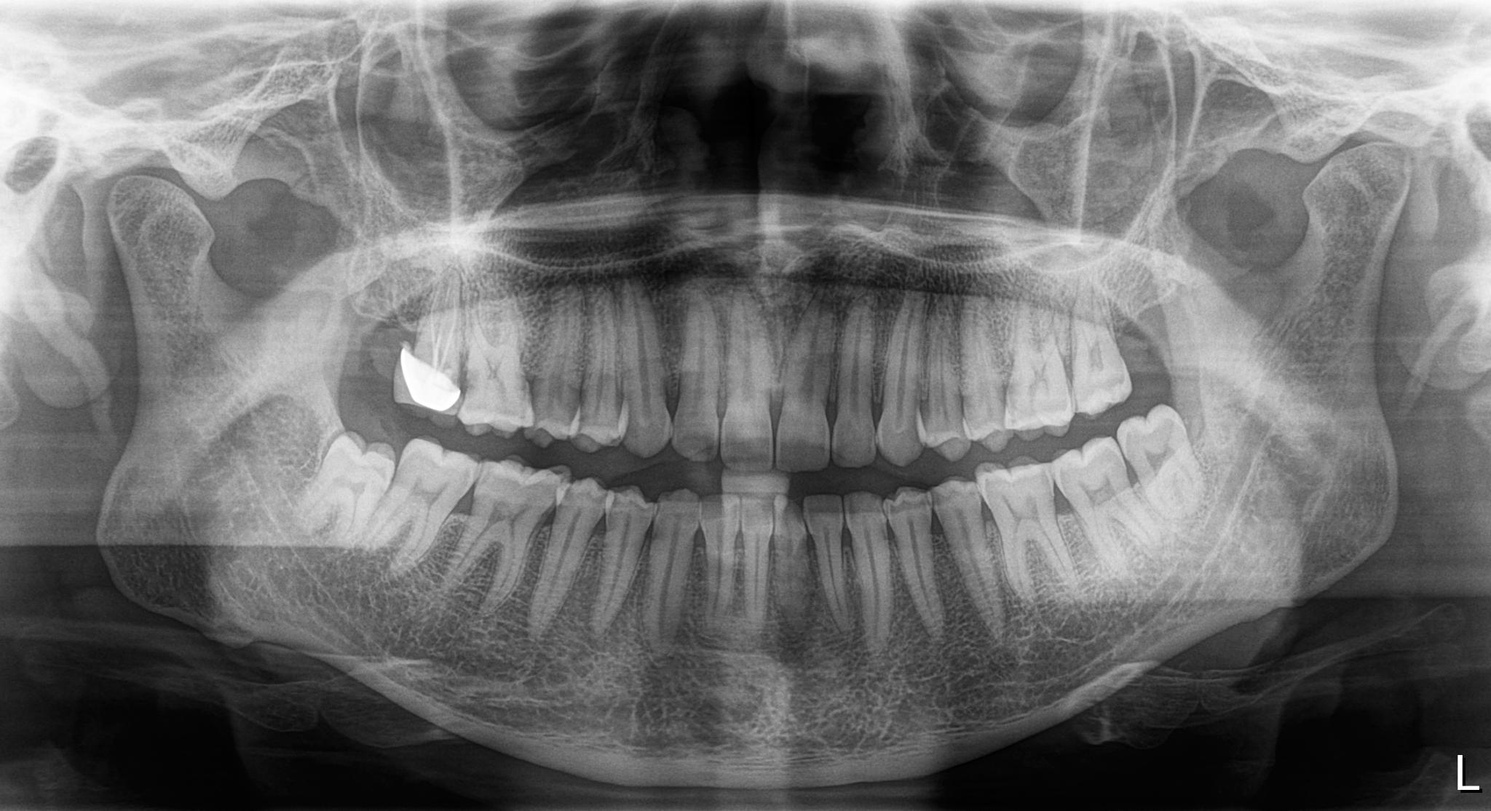Endodontically Treated Tooth: (413, 289, 459, 412)
Impacted Third Molar: (298, 451, 384, 526)
Missing Tooth: (1130, 305, 1192, 402), (355, 296, 400, 404)
